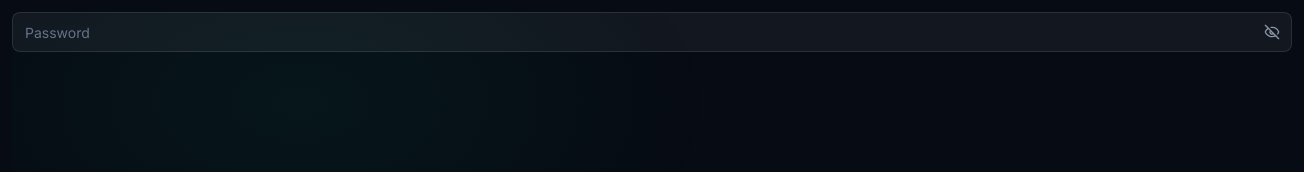
Test: FIN-QA-0610: PasswordInput component › has aria-label "Hide password" when visible (FIN-BUG-0002 regression)
Click the button named "Show password" at x=1272, y=32, box [1264,24,1280,40]
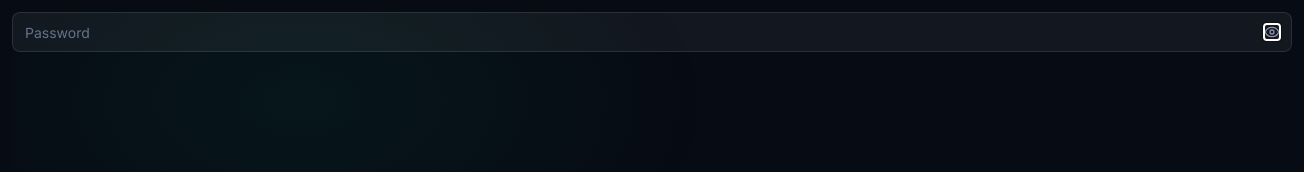
Now the button named "Hide password" has attribute aria-label="Hide password", box [1264,24,1280,40]
